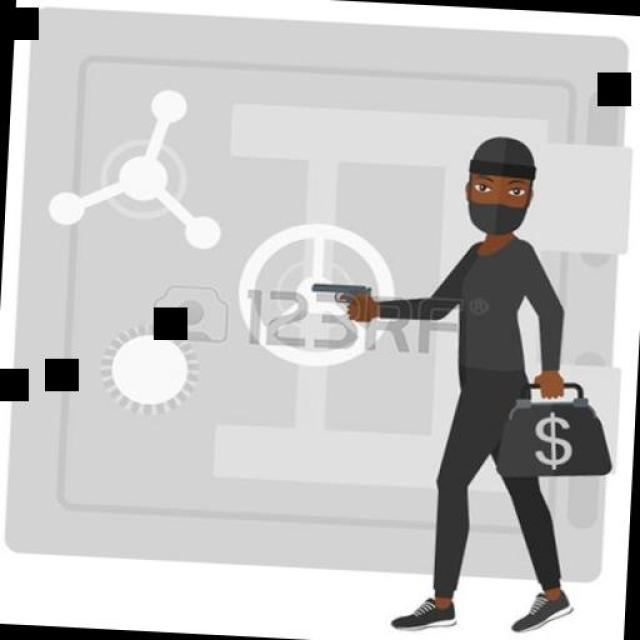gun: (308, 278, 374, 318)
